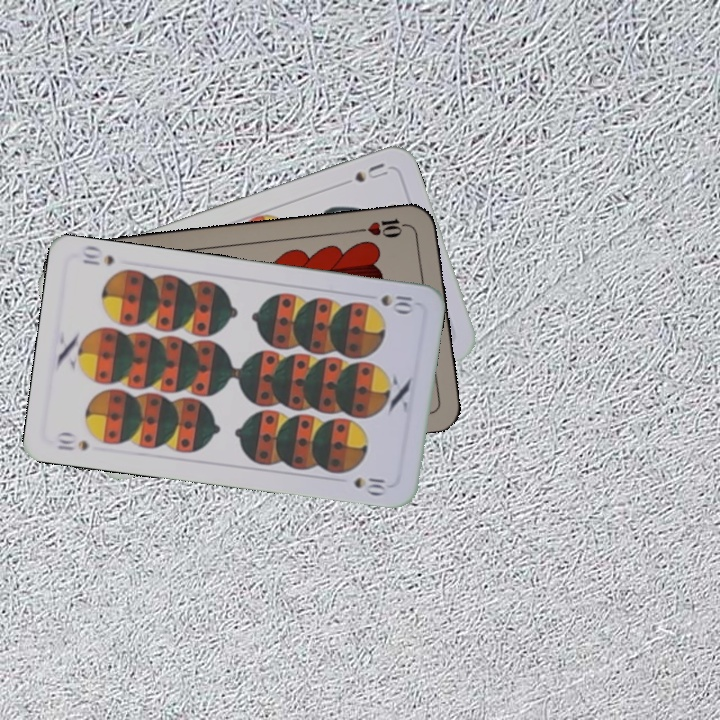H10: (353, 215, 413, 241)
S10: (377, 291, 419, 316), (53, 428, 91, 453)
SU: (350, 158, 392, 185)
